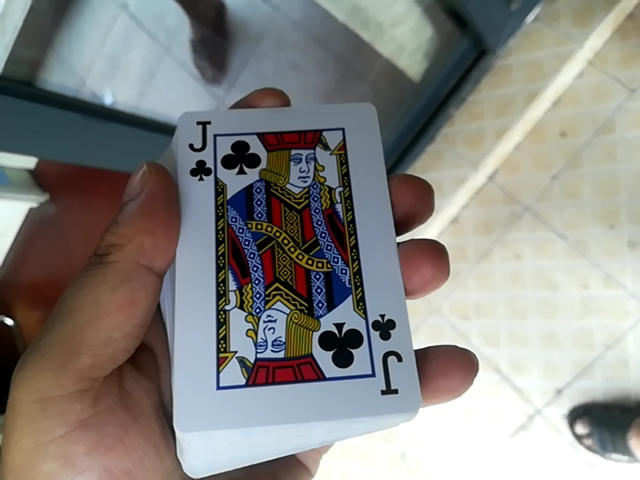mh j: (172, 41, 420, 449)
